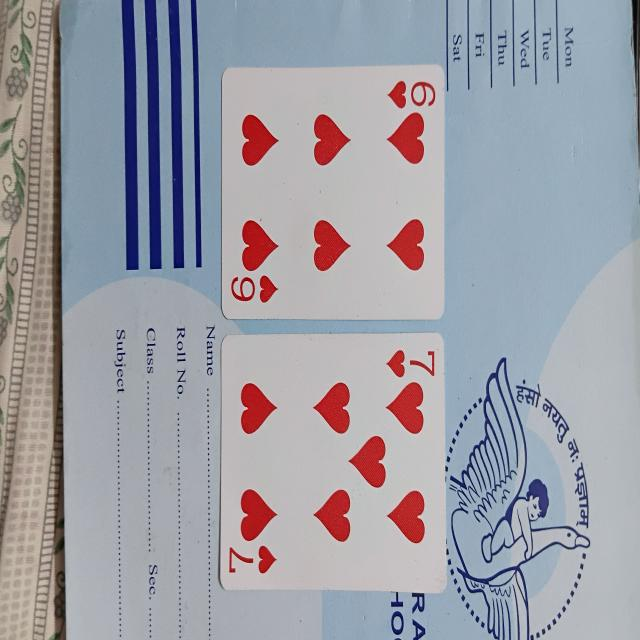6H: (222, 71, 445, 316)
7H: (220, 336, 448, 592)
